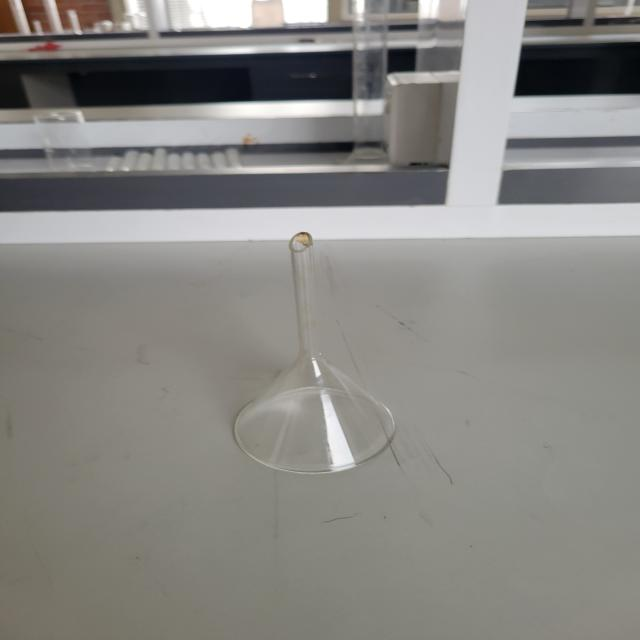Funnel: (197, 186, 419, 499)
